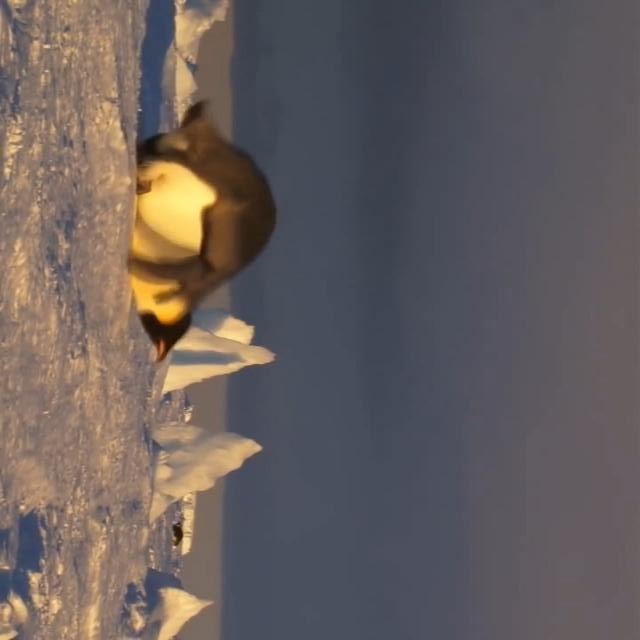penguin: (127, 98, 277, 365)
